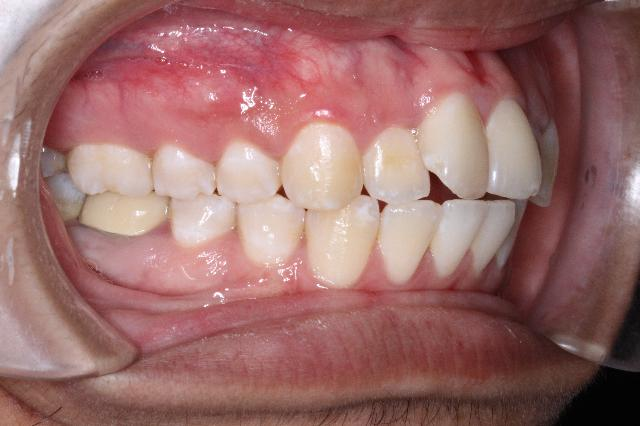canine class II 1/4: (237, 114, 381, 294)
molar class II 1/2: (62, 128, 170, 246)
